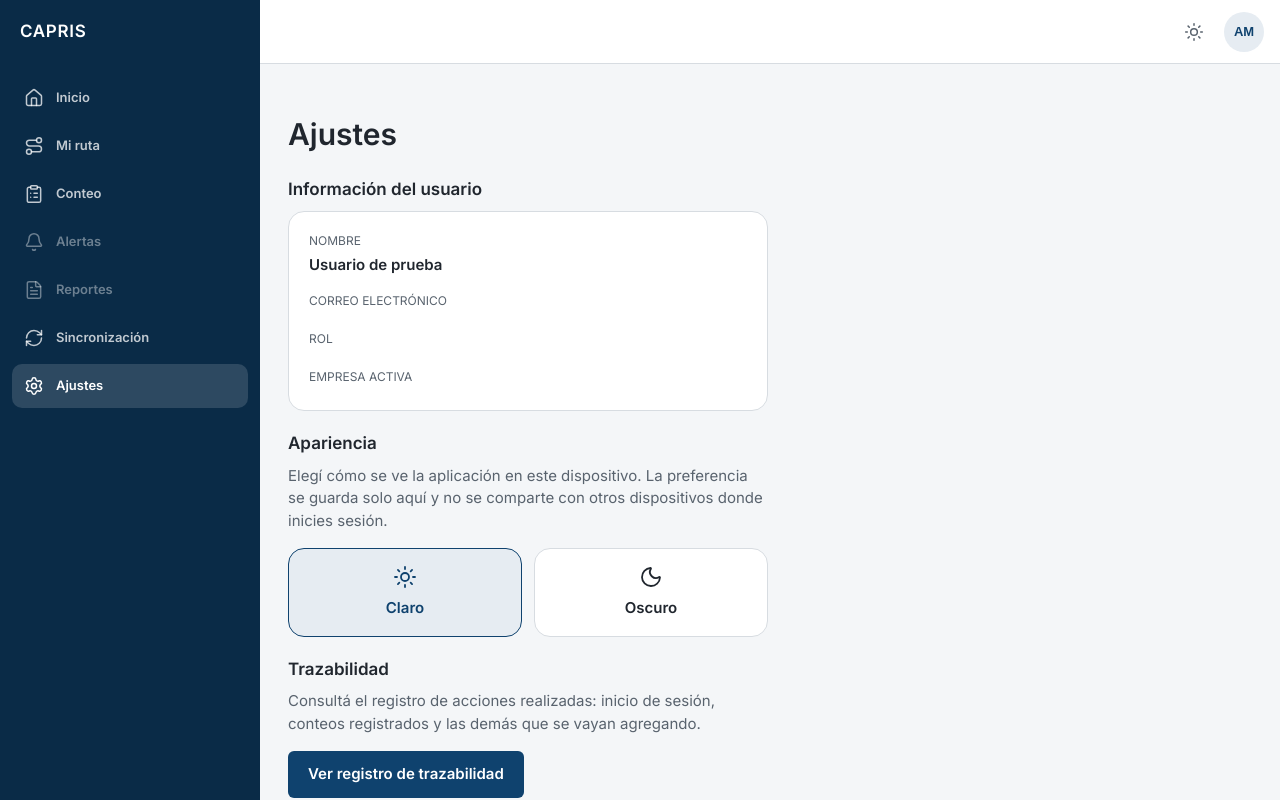
Test: HU-031 - Trazabilidad de acciones del usuario › se puede llegar a la pantalla de trazabilidad desde Ajustes
Click the link "Ver registro de trazabilidad".
click(406, 775)  # box [288,751,524,798]
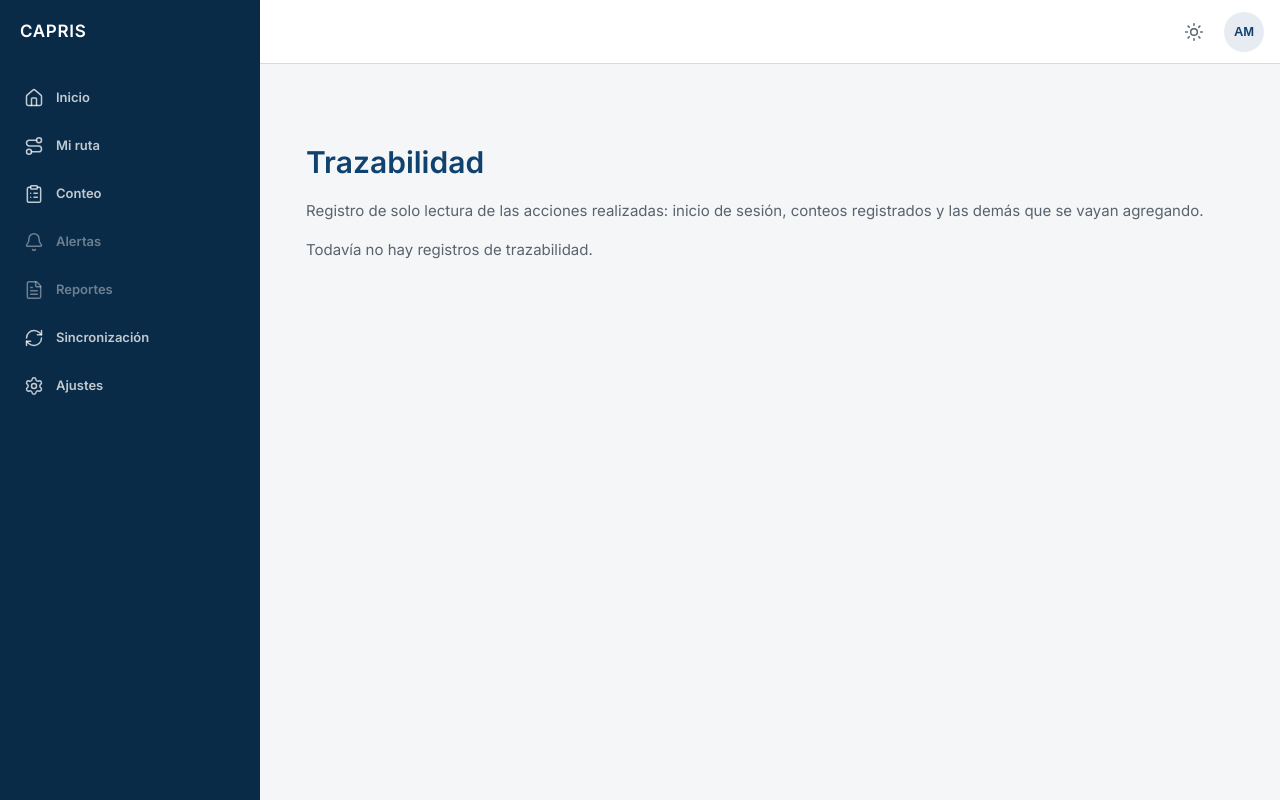
Expected: the text "Todavía no hay registros de trazabilidad." is shown, [306,240,593,259]
